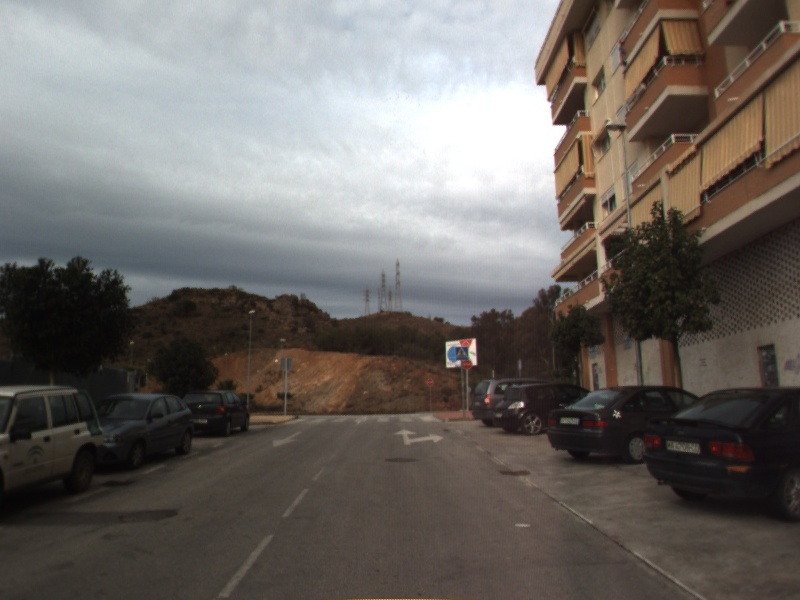STRAIGHT_RIGHT: (391, 426, 446, 447)
